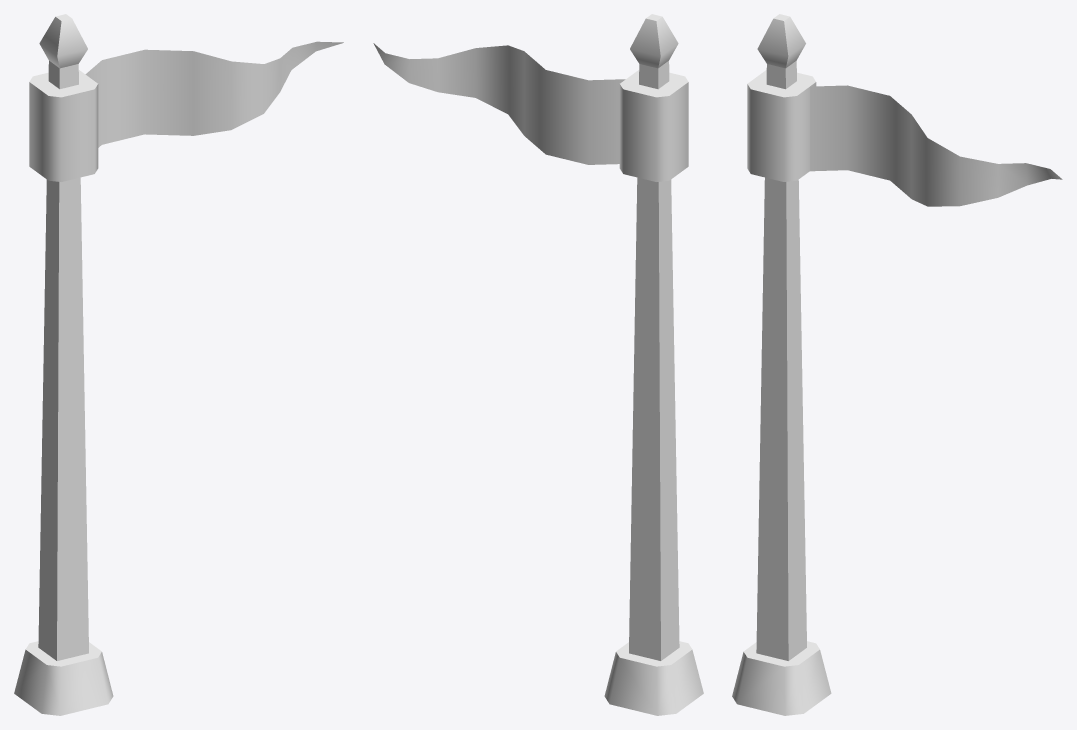
File: flag-pirate-high-pennant.glb
3 renders of one model, left to right at view 1: azimuth 30°, elevation 25°; view 2: azimuth 150°, elevation 25°; view 3: azimuth 330°, elevation 25°, orthographic.
Parts seen in each view (by area): view 1: flag-pirate-high-pennant; view 2: flag-pirate-high-pennant; view 3: flag-pirate-high-pennant.
Boxes of the visible parts, x1,y1,x2,y2 form: flag-pirate-high-pennant: (14,14,343,715); flag-pirate-high-pennant: (373,14,703,715); flag-pirate-high-pennant: (732,14,1062,715).
Size of the model in its own units: 1.76 by 3.6 by 0.3987.
Materials: 1 (1 with a texture image).
